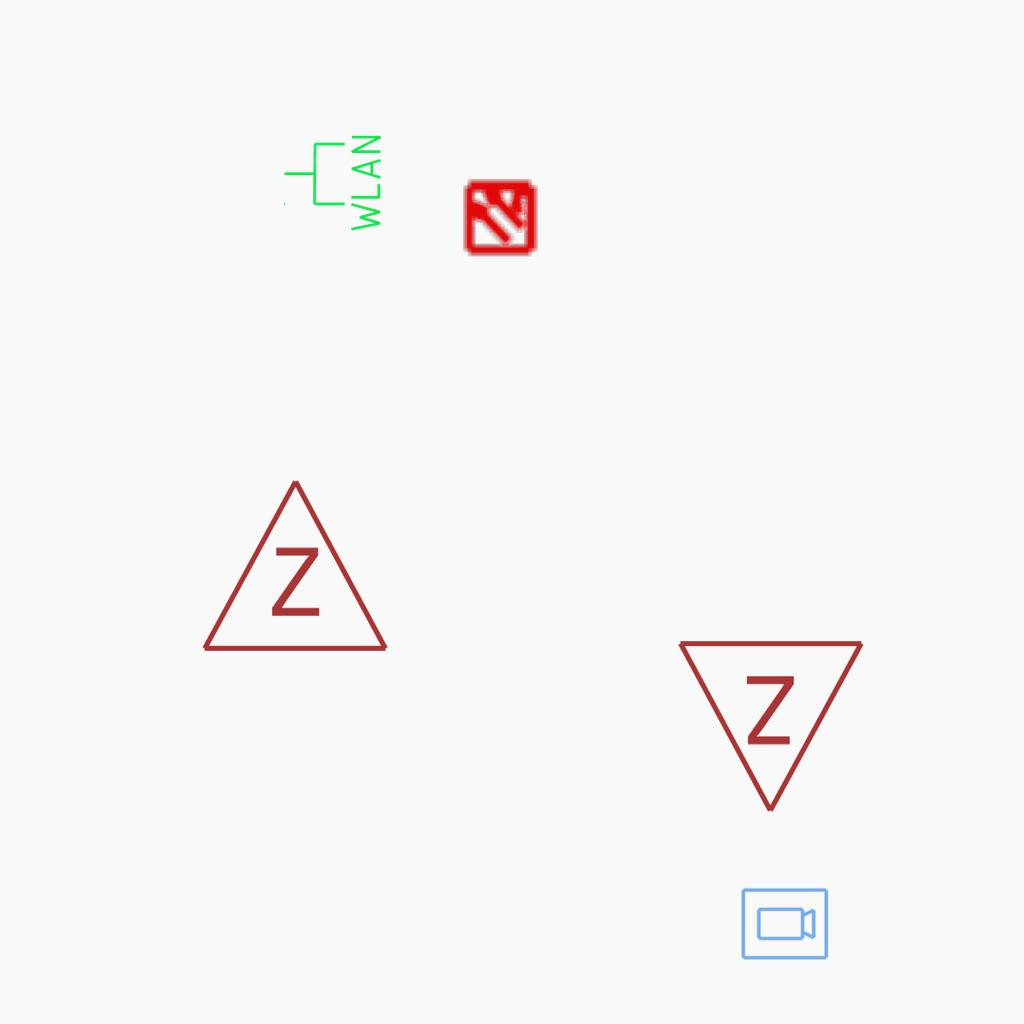KFO_Kamera_mit_Festobjektiv: (739, 886, 830, 963)
OT_Multisensormelder_(Kombination_RMO_WMD): (444, 159, 557, 272)
WLAN: (281, 131, 385, 236)
Zimmersignalleuchte: (675, 626, 871, 826), (195, 466, 391, 666)
